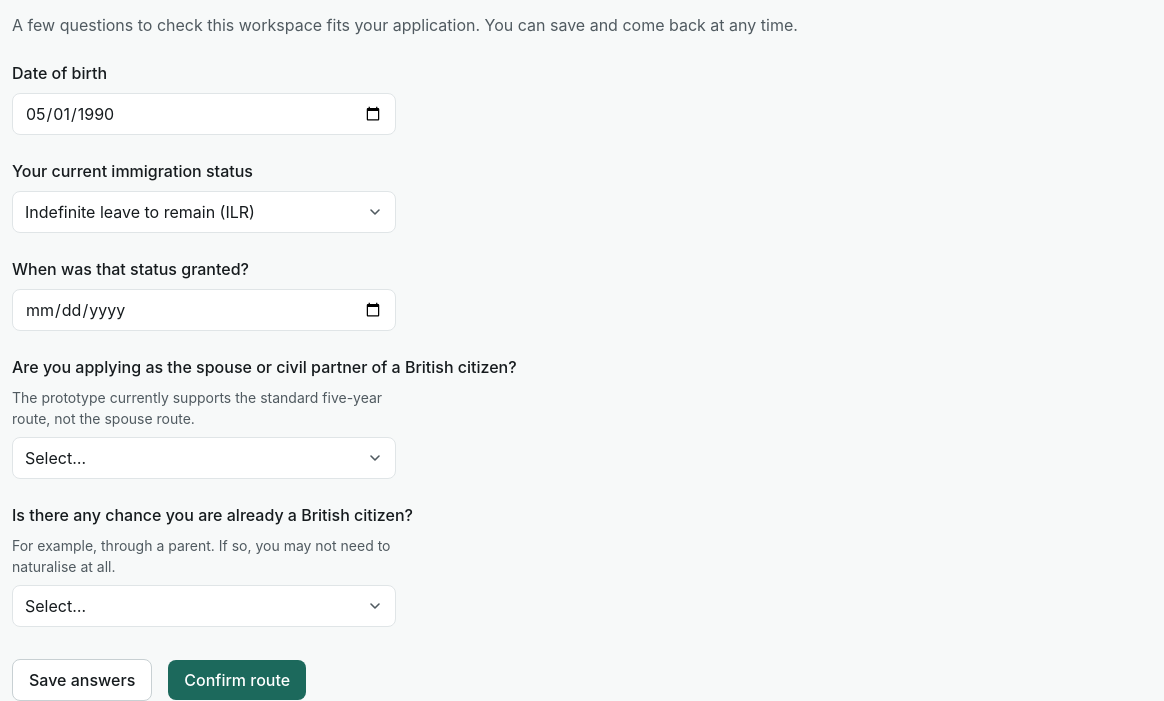
RouteOnboarding › confirms a supported route, shows the set-up outcome, and hides the form
(page scrolled)
Click the button "Confirm route" at (237, 680), box [168, 660, 306, 700]
(page scrolled)
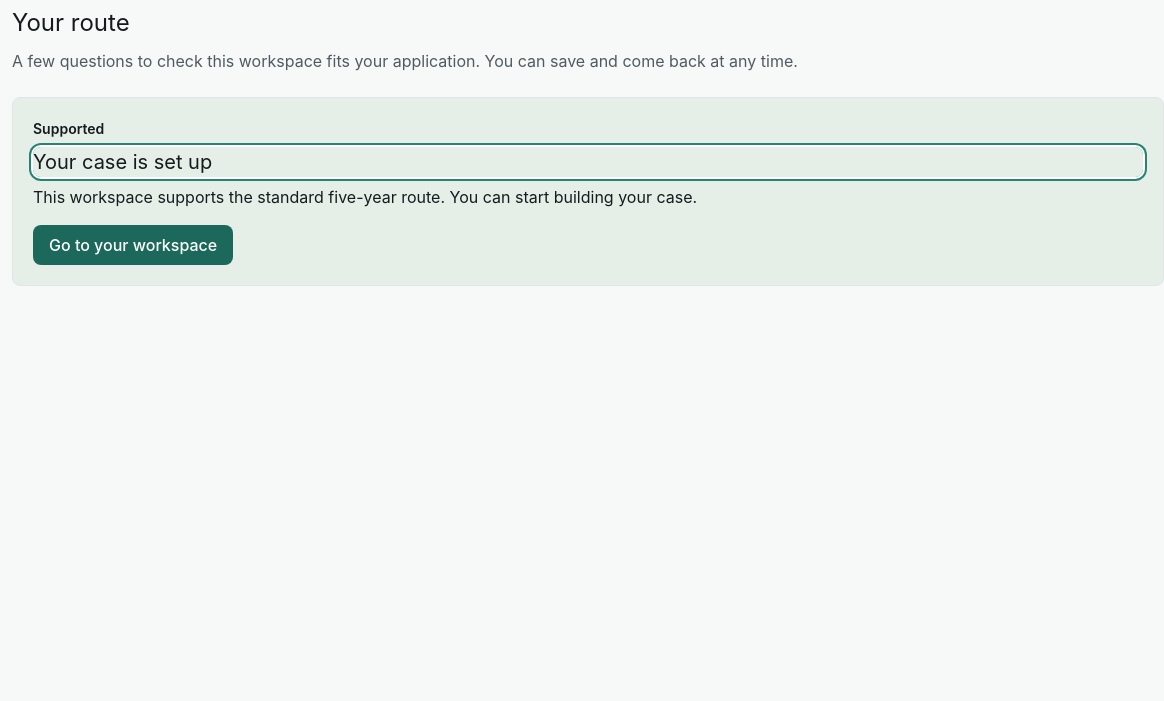
expect the heading "Your case is set up" is shown: met, box [33, 147, 1143, 177]
expect the label labelled "Date of birth" is gone: met
